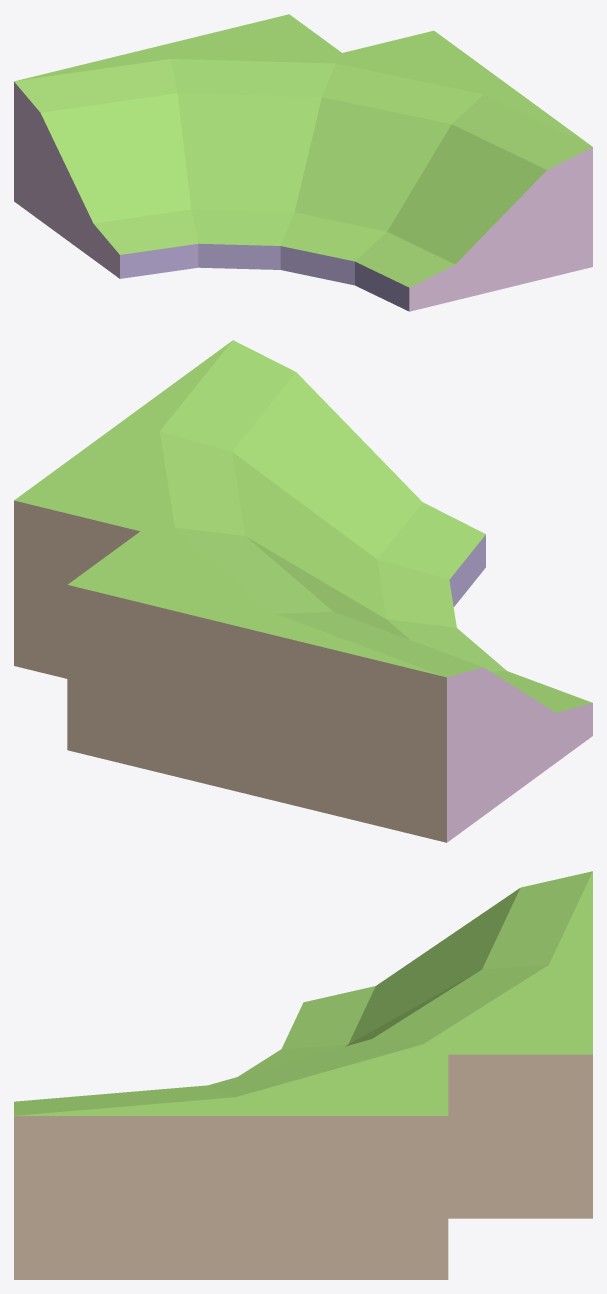
Rendered from Grass_Hill_Sharp_Curve_Inner_4x4.glb.
3 views of the same model, one above another, from view 1: azimuth 30°, elevation 25°; view 2: azimuth 150°, elevation 25°; view 3: azimuth 270°, elevation 25° (orthographic). The views are drawn at different scales.
Parts seen in each view (by area): view 1: Grass_Hill_Sharp_Curve_Inner_4x4; view 2: Grass_Hill_Sharp_Curve_Inner_4x4; view 3: Grass_Hill_Sharp_Curve_Inner_4x4.
Boxes of the visible parts, x1,y1,x2,y2 form: Grass_Hill_Sharp_Curve_Inner_4x4: (14,14,592,311); Grass_Hill_Sharp_Curve_Inner_4x4: (14,340,592,842); Grass_Hill_Sharp_Curve_Inner_4x4: (14,871,592,1279).
Size of the model in its own units: 400 by 125 by 400.
